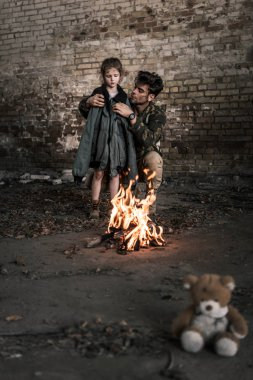fire: (107, 183, 164, 251)
